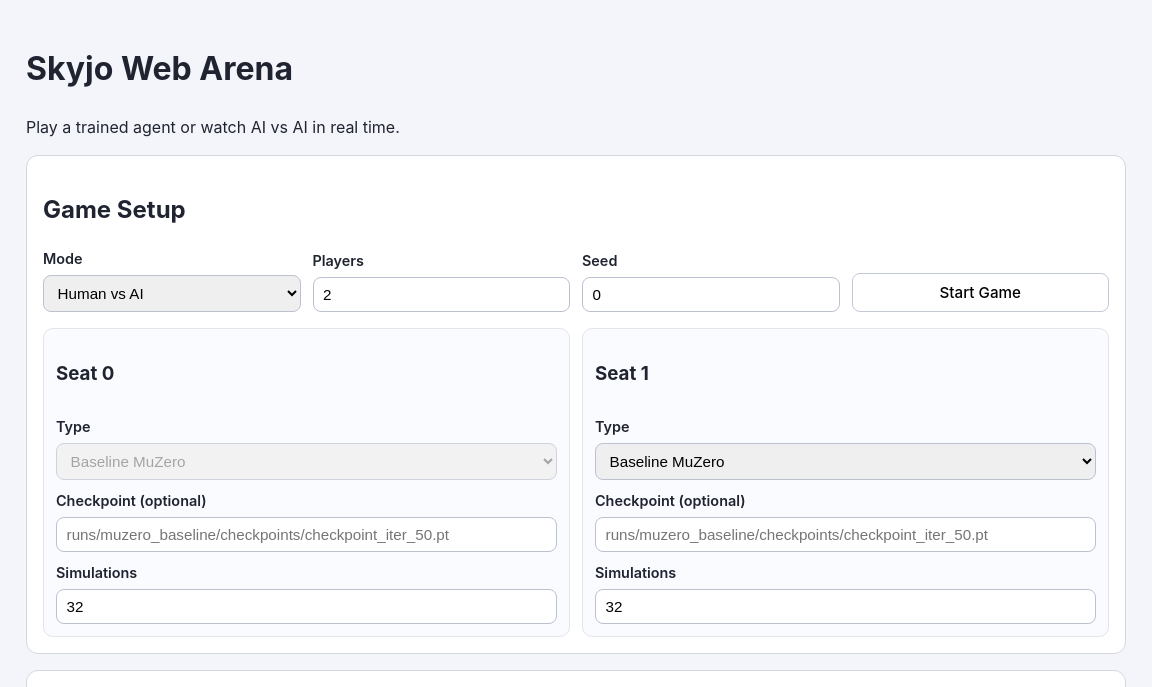
Test: App › creates a game and renders server state
This screenshot has width=1152, height=687.
Click the button "Start Game".
click(980, 292)  # box x1=852 y1=273 x2=1109 y2=312
(page scrolled)
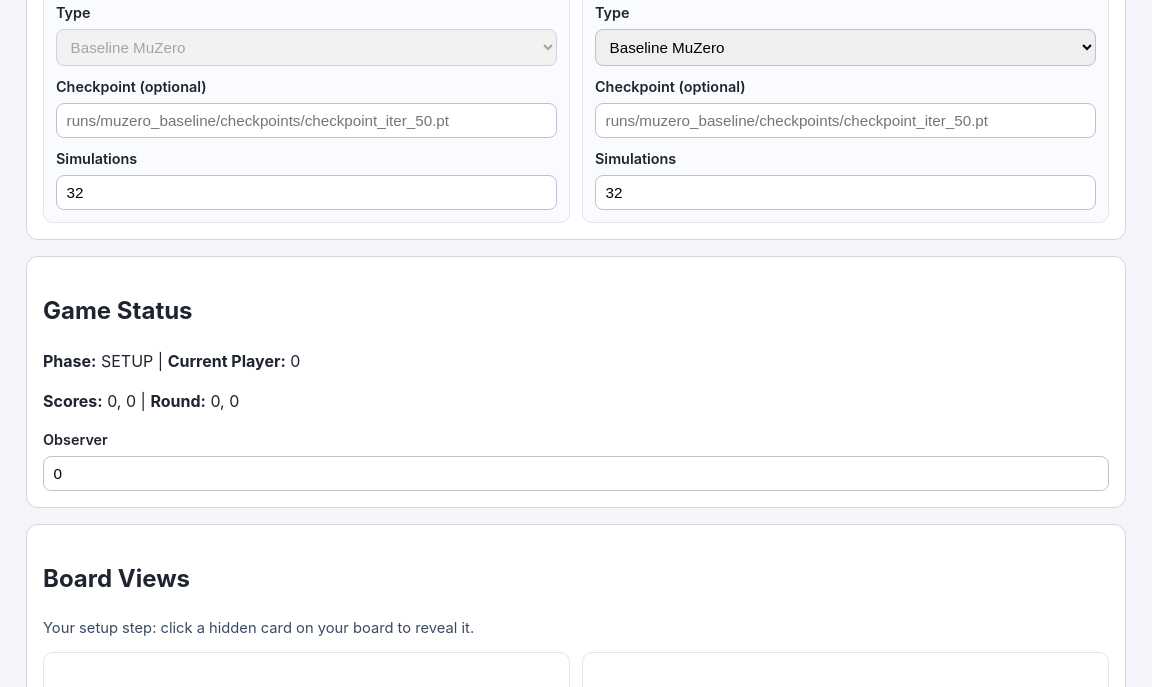
Now the text "Phase:" is shown, box x1=43 y1=351 x2=96 y2=371
